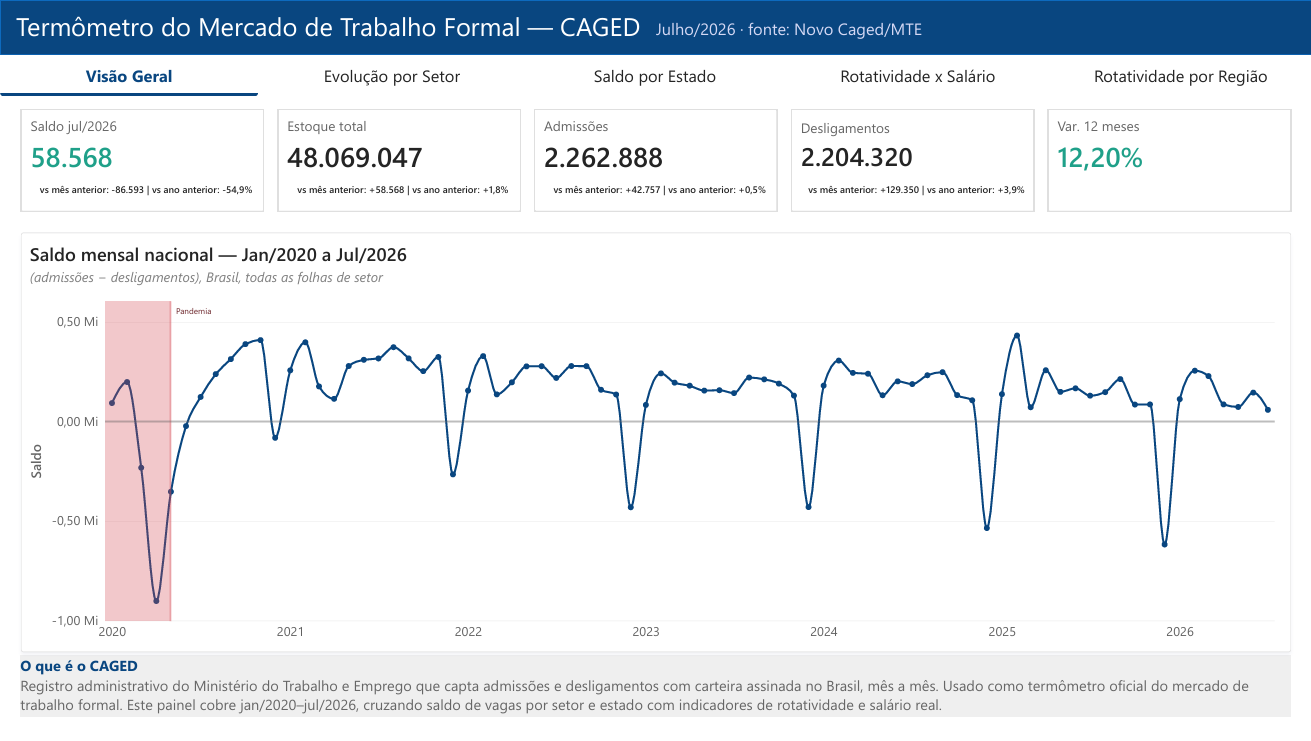

The page's visual inventory and layout, read from the dashboard file:
{"tool":"powerbi","page":{"name":"Visão Geral","canvas":[1920,1080],"ordinal":0},"visuals":[{"type":"shape","box":[0,0,1920,80],"z":0,"group":"g1"},{"type":"group","id":"g1","title":"Grupo 1","box":[0,0,1920,80],"z":0,"group":"g2"},{"type":"group","id":"g2","title":"Grupo 2","box":[0,0,1920,140],"z":0},{"type":"textbox","box":[0,12,960,62],"z":1000,"group":"g1"},{"type":"pageNavigator","box":[0,80,1920,60],"z":1000,"group":"g2"},{"type":"cardVisual","fields":{"Data":["_Medida.Saldo","_Medida.Estoque","_Medida.Admissoes","_Medida.Desligamentos","_Medida.Variacao % Interanual"]},"box":[30,160,1860,150],"z":1000},{"type":"textbox","box":[945,24,420,42],"z":2000,"group":"g1"},{"type":"lineChart","title":"Saldo mensal nacional — Jan/2020 a Jul/2026","fields":{"Category":["Dim_Data.Data.Variation.Hierarquia de datas.Ano","Dim_Data.Data.Variation.Hierarquia de datas.Mês"],"Y":["_Medida.Saldo Nacional"]},"box":[30,340,1860,615],"z":2000},{"type":"textbox","box":[29.3,960,1860.9,90.5],"z":3000}]}

Visuals, with their boxes in screenshot pixels (x1, y1, x2, y2), scaled from the page's 1920x1080 canvas onto the 1311x741 screenshot:
shape: <box>0,0,1310,55</box>
"Grupo 1" group: <box>0,0,1310,55</box>
"Grupo 2" group: <box>0,0,1310,96</box>
textbox: <box>0,8,656,51</box>
pageNavigator: <box>0,55,1310,96</box>
cardVisual - _Medida.Saldo x _Medida.Estoque: <box>20,110,1291,213</box>
textbox: <box>645,16,932,45</box>
"Saldo mensal nacional — Jan/2020 a Jul/2026" lineChart: <box>20,233,1291,655</box>
textbox: <box>20,659,1291,721</box>
